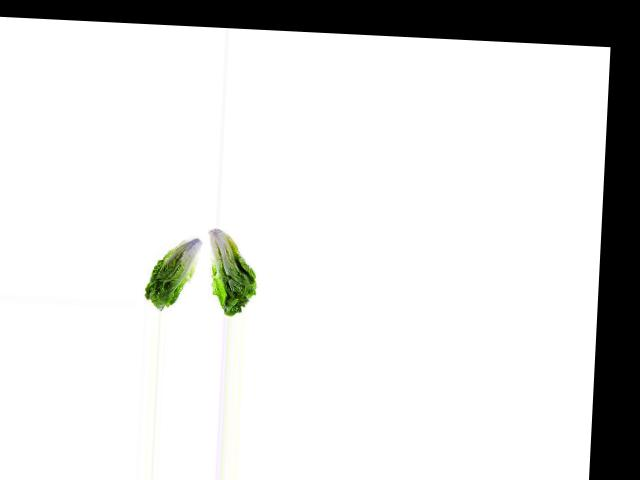lettuce: (142, 226, 203, 311)
